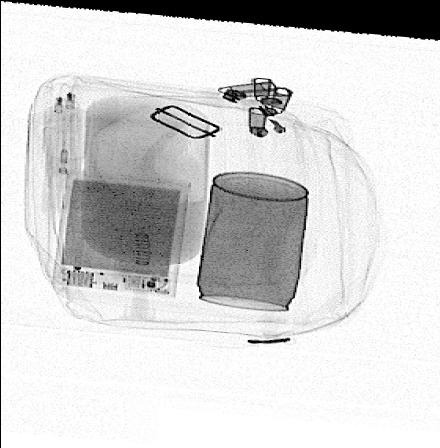Powerbank: (51, 170, 190, 294)
